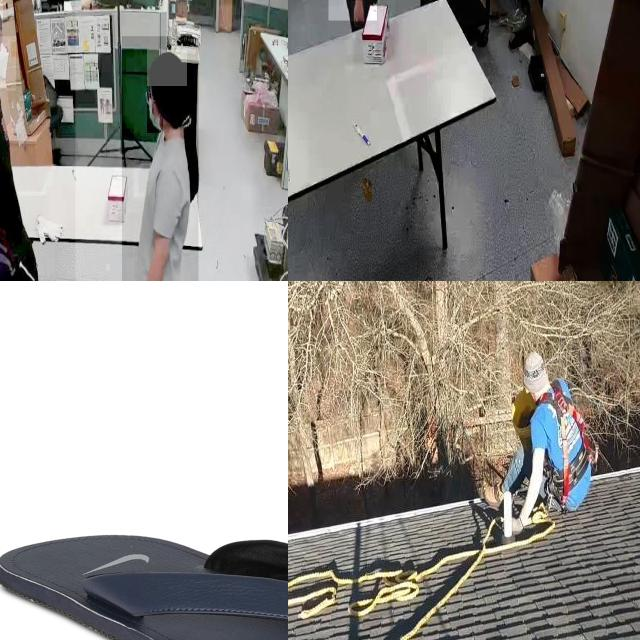Harness: (540, 380, 595, 506)
Sandals: (0, 533, 288, 640)
face_mask: (0, 36, 16, 90), (147, 91, 163, 133)
hand_noglove: (351, 1, 365, 29)
head_nohelmet: (147, 49, 187, 87)
person: (0, 0, 76, 281), (122, 36, 199, 281)
